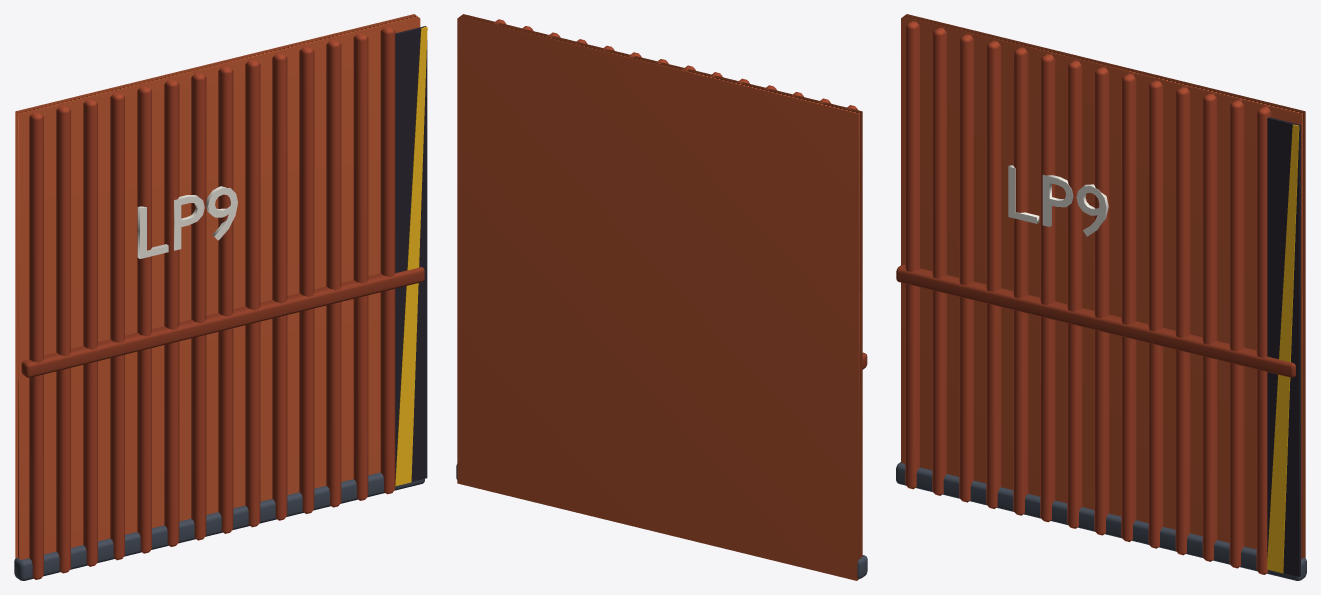
File: dune_hangar_door_l.glb
3 views of the same model, side by side, from view 1: azimuth 30°, elevation 25°; view 2: azimuth 150°, elevation 25°; view 3: azimuth 330°, elevation 25° (orthographic).
Visible parts, largest first — view 1: DoorL; view 2: DoorL; view 3: DoorL.
Part boxes in pixels (box(x1,y1,x2,y2)): DoorL: box(14, 14, 427, 580); DoorL: box(456, 14, 867, 580); DoorL: box(896, 14, 1306, 580).
Size of the model in its own units: 6.3 by 6.9 by 0.32.
